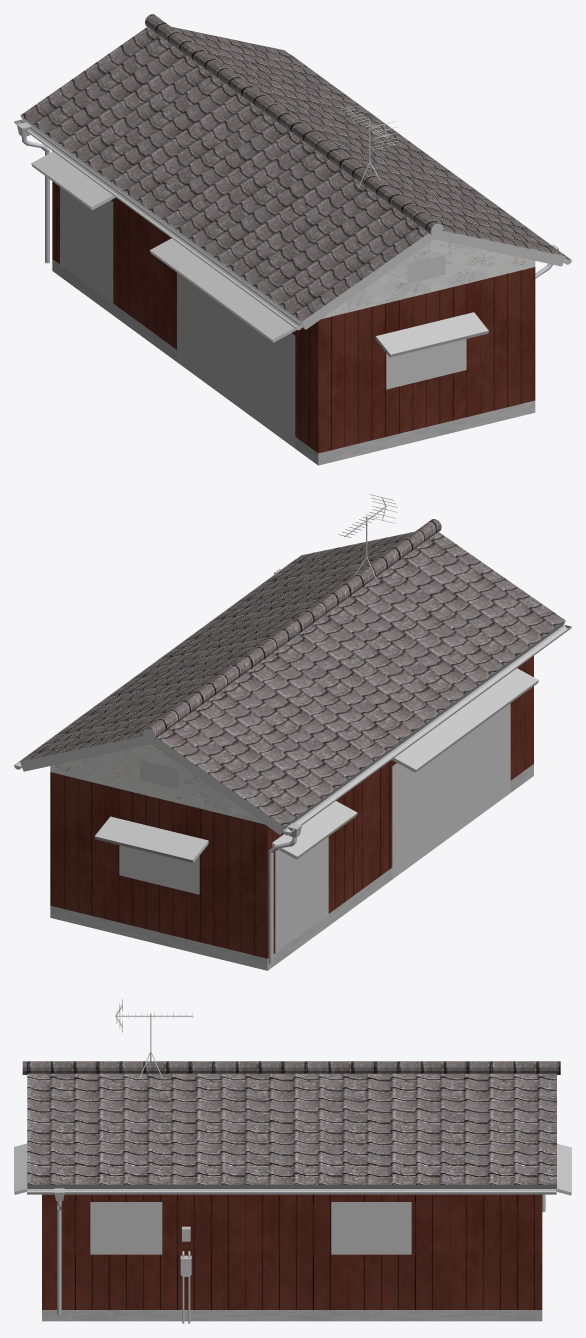
File: JapaneseHouse04.fbx
3 views of the same model, one above another, from view 1: azimuth 30°, elevation 25°; view 2: azimuth 150°, elevation 25°; view 3: azimuth 270°, elevation 25° (orthographic). The views are drawn at different scales.
Parts seen in each view (by area): view 1: Empty_Mesh; view 2: Empty_Mesh; view 3: Empty_Mesh.
Boxes of the visible parts, x1,y1,x2,y2 form: Empty_Mesh: (14,14,571,465); Empty_Mesh: (14,494,571,970); Empty_Mesh: (14,999,571,1323).
Bounding box in the file's own units: 690 × 668 × 1266.
